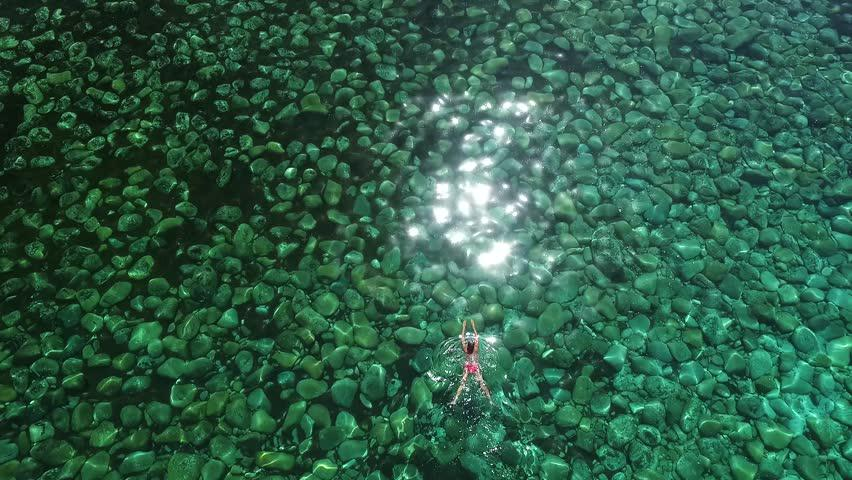human: (448, 314, 497, 408)
